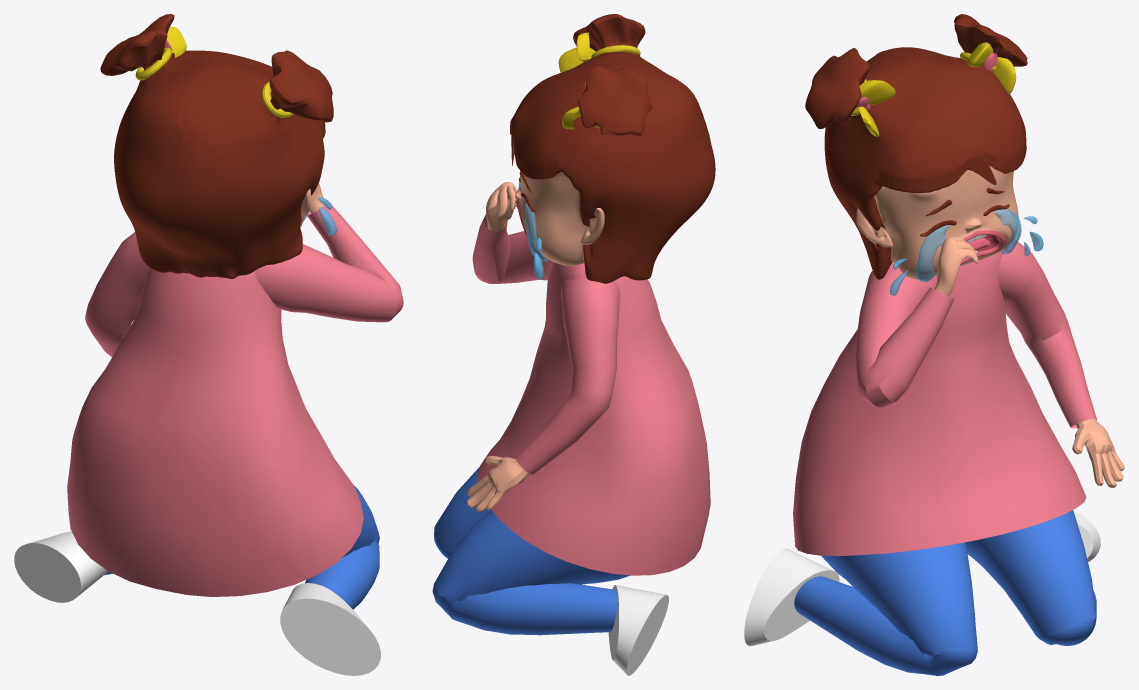
Rendered from pichalka.glb.
3 renders of one model, left to right at view 1: azimuth 30°, elevation 25°; view 2: azimuth 150°, elevation 25°; view 3: azimuth 270°, elevation 25°, orthographic. The views are drawn at different scales.
Visible parts, largest first — view 1: Plane; view 2: Plane; view 3: Plane.
Part boxes in pixels (x1,y1,x2,y2): Plane: (14, 14, 403, 675); Plane: (432, 14, 715, 675); Plane: (744, 14, 1124, 675).
Size of the model in its own units: 1.94 by 3.89 by 2.3.
